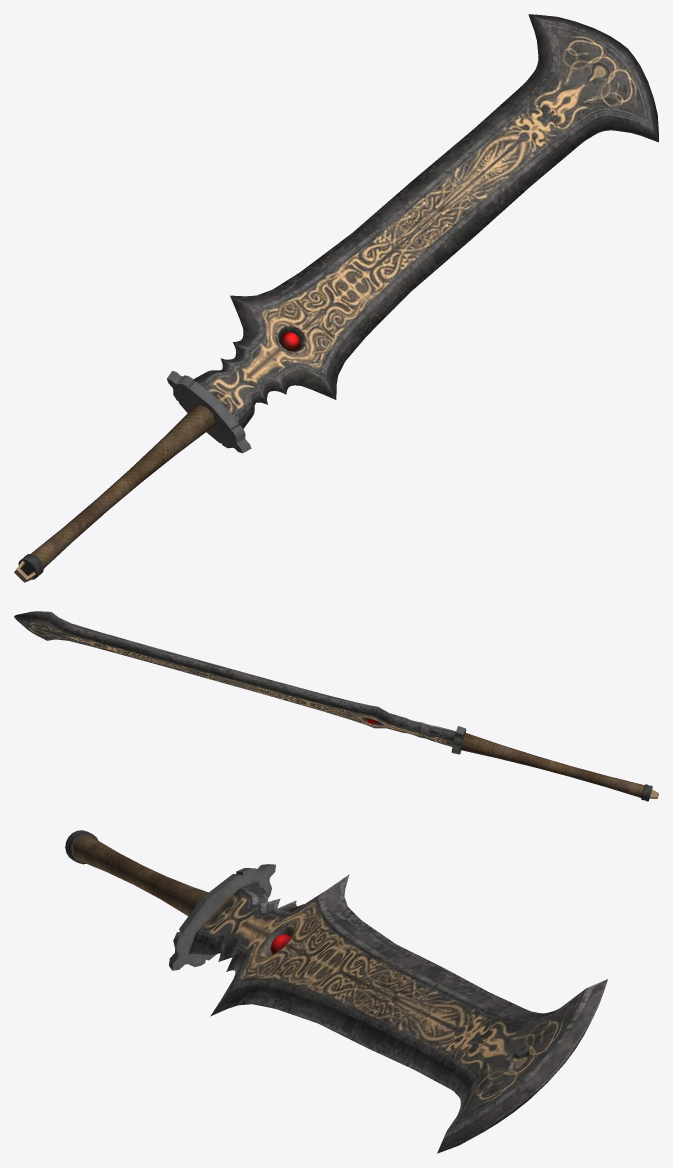
File: sword_penitent.glb
3 views of the same model, one above another, from view 1: azimuth 30°, elevation 25°; view 2: azimuth 150°, elevation 25°; view 3: azimuth 270°, elevation 25° (orthographic). The views are drawn at different scales.
Visible parts, largest first — view 1: LowpolySword001; view 2: LowpolySword001; view 3: LowpolySword001.
Part boxes in pixels (x1,y1,x2,y2): LowpolySword001: (14, 14, 658, 582); LowpolySword001: (14, 611, 658, 801); LowpolySword001: (65, 830, 607, 1153).
Bounding box in the file's own units: 781 × 237 × 346.
Materials: 1 (1 with a texture image).
